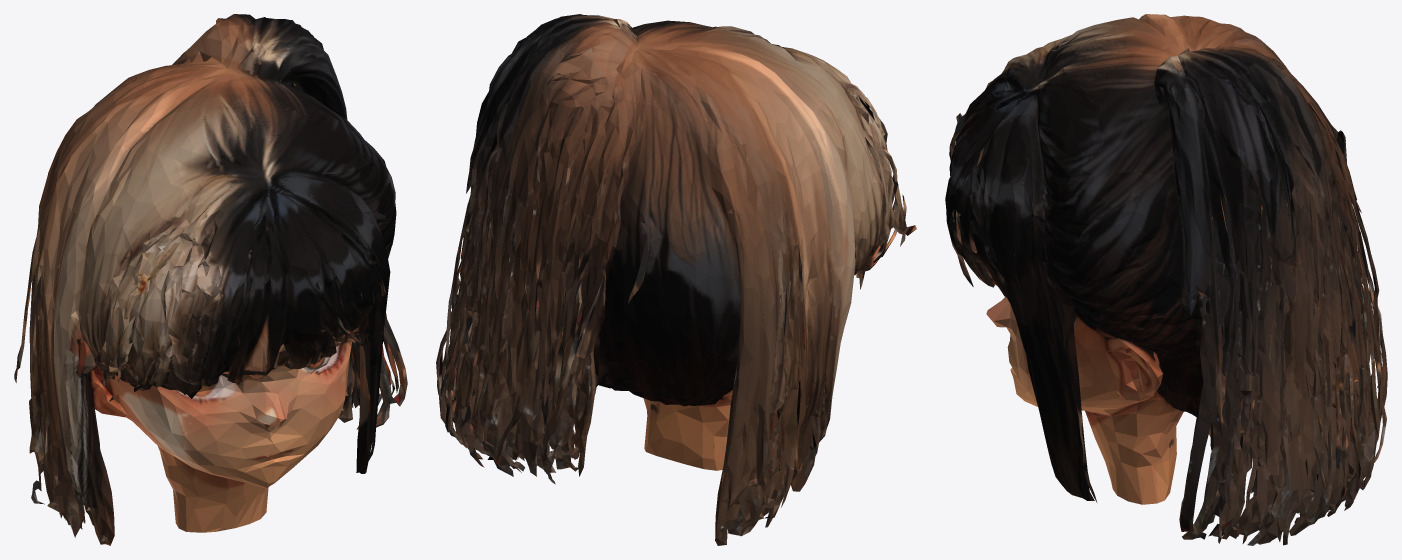
The model's file is traveler_head_side_pilgrimgirl_upright_head_00001_.glb.
3 renders of one model, left to right at view 1: azimuth 30°, elevation 25°; view 2: azimuth 150°, elevation 25°; view 3: azimuth 270°, elevation 25°, orthographic. The views are drawn at different scales.
Parts seen in each view (by area): view 1: temp_mesh.ply; view 2: temp_mesh.ply; view 3: temp_mesh.ply.
Boxes of the visible parts, x1,y1,x2,y2 form: temp_mesh.ply: (14, 14, 407, 545); temp_mesh.ply: (436, 14, 916, 545); temp_mesh.ply: (945, 14, 1387, 545).
Size of the model in its own units: 1.67 by 1.97 by 1.62.
Materials: 1 (1 with a texture image).
